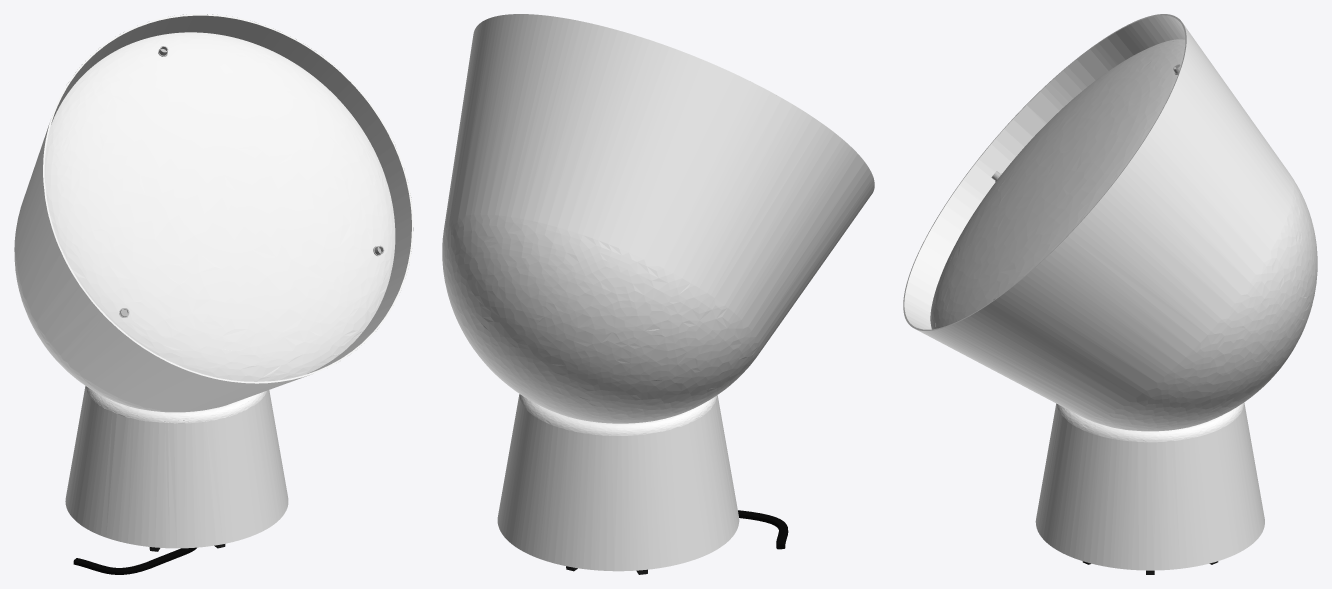
Rendered from ikea_lamp_ola.glb.
3 renders of one model, left to right at view 1: azimuth 30°, elevation 25°; view 2: azimuth 150°, elevation 25°; view 3: azimuth 270°, elevation 25°, orthographic. The views are drawn at different scales.
Parts seen in each view (by area): view 1: G-Base.001; view 2: G-Base.001; view 3: G-Base.001.
Boxes of the visible parts, <box> form: G-Base.001: <box>14,14,413,574</box>; G-Base.001: <box>442,14,874,574</box>; G-Base.001: <box>903,14,1317,574</box>.
Bounding box in the file's own units: 0.235 × 0.3156 × 0.2386.
1 material, 1 textured.
